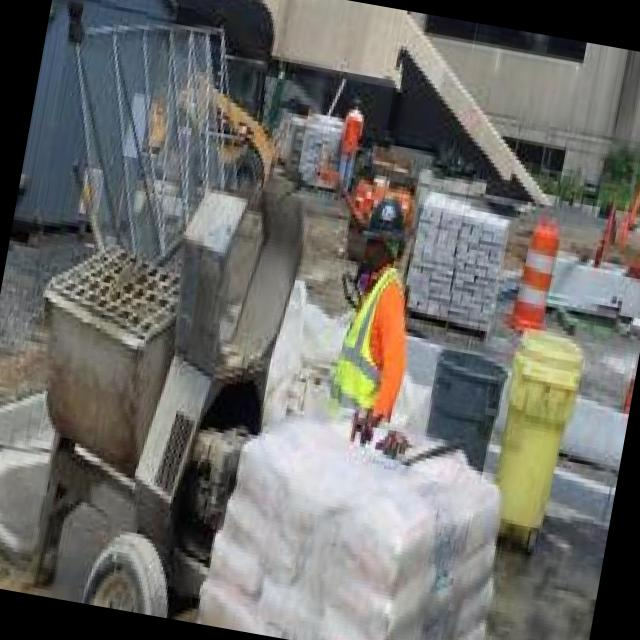Helmet: (360, 186, 416, 257)
Vest: (328, 268, 413, 426)
